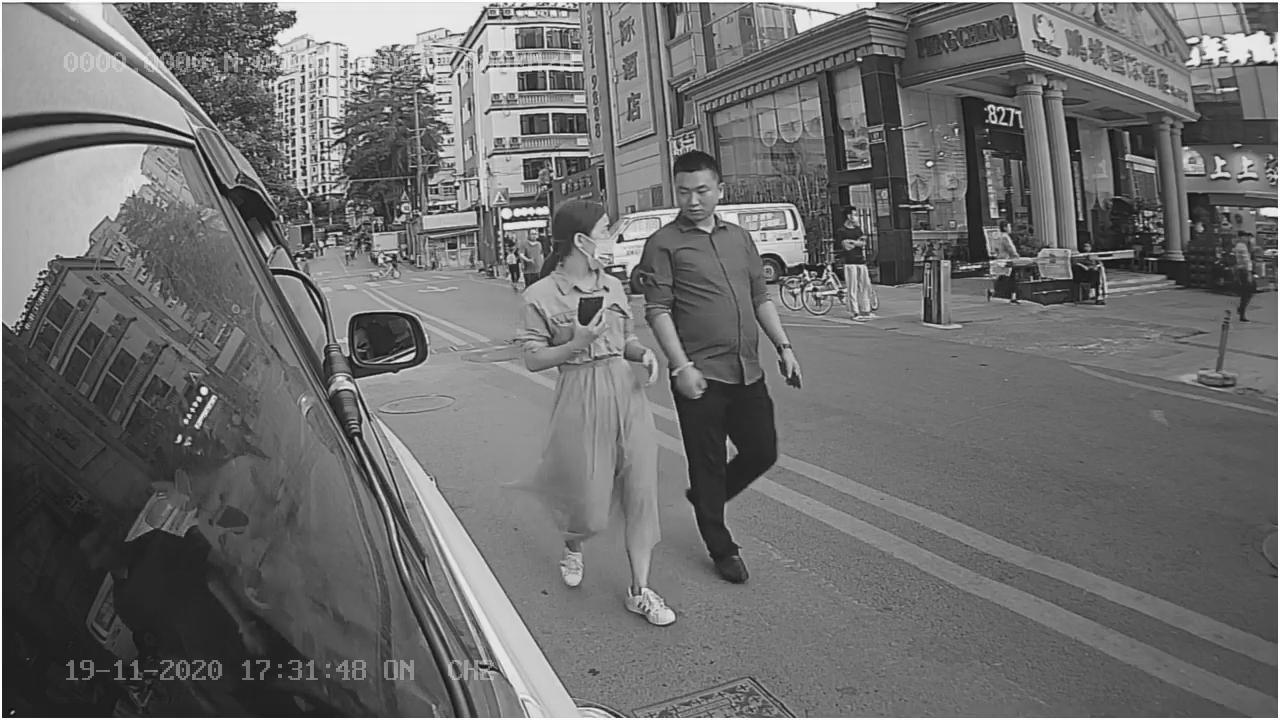person: (517, 196, 661, 544), (664, 158, 801, 510)
